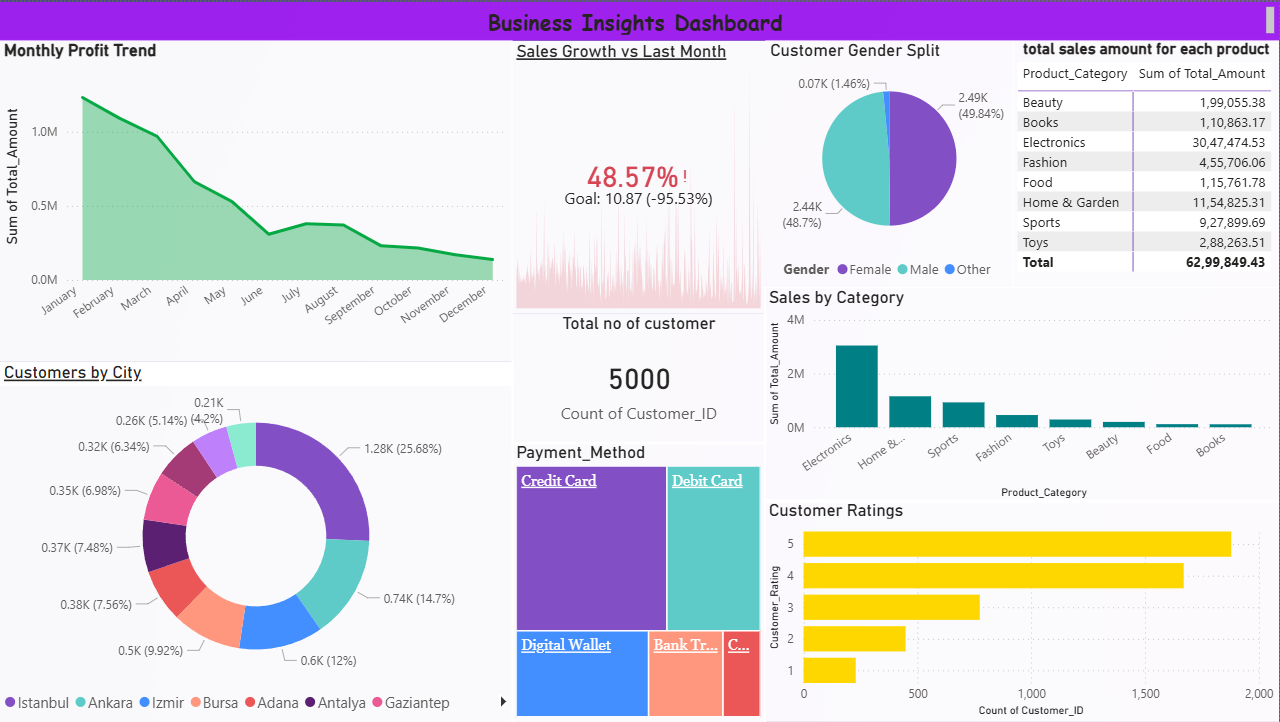

This screenshot's page, from the dashboard's own definition file:
{"tool":"powerbi","page":{"name":"Page 1","canvas":[1280,720],"ordinal":0},"visuals":[{"type":"areaChart","title":"Monthly Profit Trend","fields":{"Category":["ecommerce_customer_behavior_dataset.Date.Variation.Date Hierarchy.Month","ecommerce_customer_behavior_dataset.Date.Variation.Date Hierarchy.Day"],"Y":["Sum(ecommerce_customer_behavior_dataset.Unit_Price)"]},"box":[0,37.5,513.8,322.5],"z":0},{"type":"card","title":"Total no of customer","fields":{"Values":["CountNonNull(ecommerce_customer_behavior_dataset.Customer_ID)"]},"box":[512.5,311.2,255,131],"z":1},{"type":"donutChart","title":"Customers by City","fields":{"Category":["ecommerce_customer_behavior_dataset.City"],"Y":["CountNonNull(ecommerce_customer_behavior_dataset.Customer_ID)"]},"box":[0,360,514.3,360],"z":2},{"type":"pivotTable","title":"total sales amount for each product","fields":{"Rows":["ecommerce_customer_behavior_dataset.Product_Category"],"Values":["Sum(ecommerce_customer_behavior_dataset.Total_Amount)"]},"box":[1013.3,37,267.2,249],"z":3},{"type":"treemap","title":"Payment_Method","fields":{"Values":["CountNonNull(ecommerce_customer_behavior_dataset.Customer_ID)"],"Group":["ecommerce_customer_behavior_dataset.Payment_Method"]},"box":[512.5,440,254,280],"z":4},{"type":"barChart","title":"Customer Ratings ","fields":{"Category":["ecommerce_customer_behavior_dataset.Customer_Rating"],"Y":["CountNonNull(ecommerce_customer_behavior_dataset.Customer_ID)"]},"box":[765,497.5,515,222.5],"z":5},{"type":"clusteredColumnChart","title":"Sales by Category","fields":{"Y":["Sum(ecommerce_customer_behavior_dataset.Total_Amount)"],"Category":["ecommerce_customer_behavior_dataset.Product_Category"]},"box":[765,285,515,216.2],"z":6},{"type":"pieChart","title":"Customer Gender Split","fields":{"Category":["ecommerce_customer_behavior_dataset.Gender"],"Y":["CountNonNull(ecommerce_customer_behavior_dataset.Customer_ID)"]},"box":[765.7,37.1,248.6,248.6],"z":7},{"type":"textbox","box":[0,0,1280,38],"z":9},{"type":"kpi","title":"Sales Growth vs Last Month","fields":{"Goal":["ecommerce_customer_behavior_dataset.Vs Last Month %"],"Indicator":["Sum(ecommerce_customer_behavior_dataset.Total_Amount)"],"TrendLine":["ecommerce_customer_behavior_dataset.Date"]},"box":[512.9,38.6,254.3,272.9],"z":10}]}

Visuals, with their boxes in screenshot pixels (x1, y1, x2, y2), scaled from the page's 1280x720 canvas onto the 1280x722 screenshot:
"Monthly Profit Trend" areaChart: <region>0, 38, 514, 361</region>
"Total no of customer" card: <region>512, 312, 768, 443</region>
"Customers by City" donutChart: <region>0, 361, 514, 721</region>
"total sales amount for each product" pivotTable: <region>1013, 37, 1279, 287</region>
"Payment_Method" treemap: <region>512, 441, 766, 721</region>
"Customer Ratings " barChart: <region>765, 499, 1279, 721</region>
"Sales by Category" clusteredColumnChart: <region>765, 286, 1279, 503</region>
"Customer Gender Split" pieChart: <region>766, 37, 1014, 286</region>
textbox: <region>0, 0, 1279, 38</region>
"Sales Growth vs Last Month" kpi: <region>513, 39, 767, 312</region>
